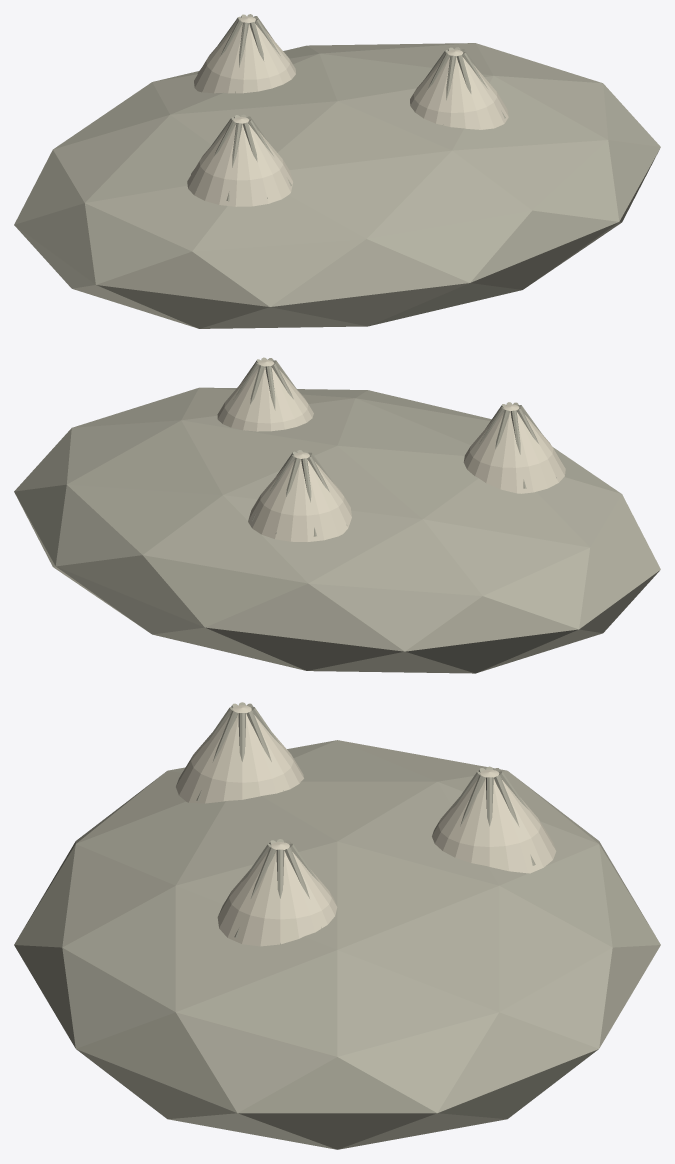
The picture shows the model from 3 angles, top to bottom: view 1: azimuth 30°, elevation 25°; view 2: azimuth 150°, elevation 25°; view 3: azimuth 270°, elevation 25°; orthographic projection. The views are drawn at different scales.
Parts seen in each view (by area): view 1: CE-019 Limpet-bearing intertidal rock batched; view 2: CE-019 Limpet-bearing intertidal rock batched; view 3: CE-019 Limpet-bearing intertidal rock batched.
Boxes of the visible parts, left/top/right/bottom form: CE-019 Limpet-bearing intertidal rock batched: left=14, top=14, right=660, bottom=328; CE-019 Limpet-bearing intertidal rock batched: left=14, top=357, right=660, bottom=673; CE-019 Limpet-bearing intertidal rock batched: left=14, top=702, right=660, bottom=1149.
Bounding box in the file's own units: 0.4185 × 0.1511 × 0.34.
